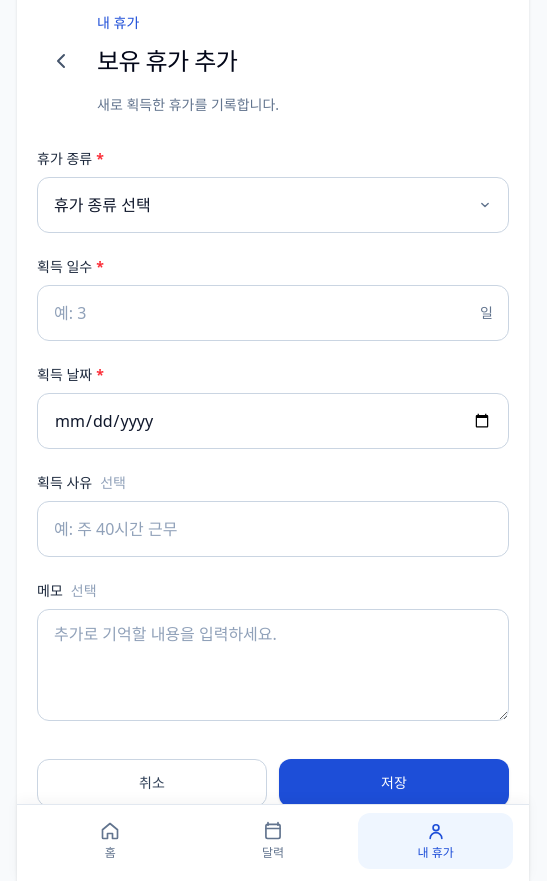
Test case: 보유 휴가 등록 흐름 › 공가를 보유 휴가로 등록하고 저장한다
Select "공가" in the dropdown labelled "휴가 종류 *" at {"x": 273, "y": 205}, box x1=37 y1=177 x2=509 y2=233
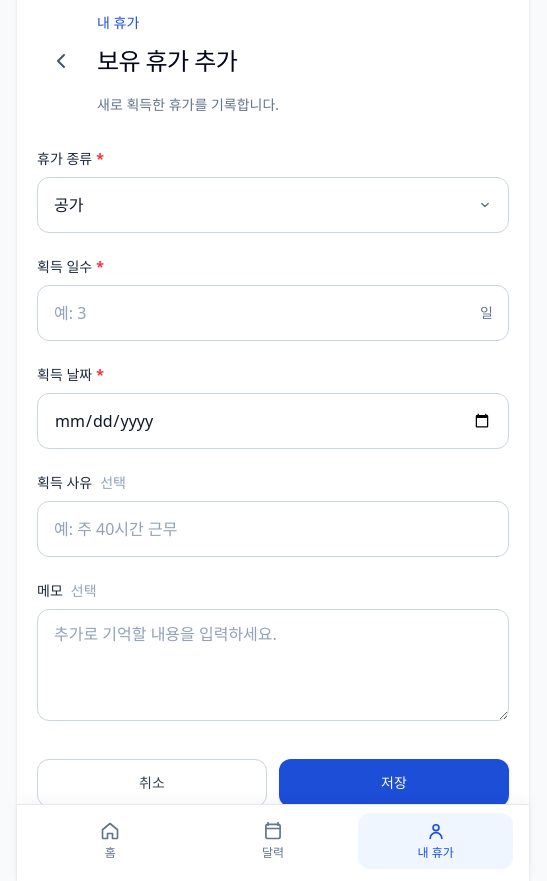
Type "1" into the number field labelled "획득 일수 * 일" at {"x": 273, "y": 313}, box x1=37 y1=285 x2=509 y2=341
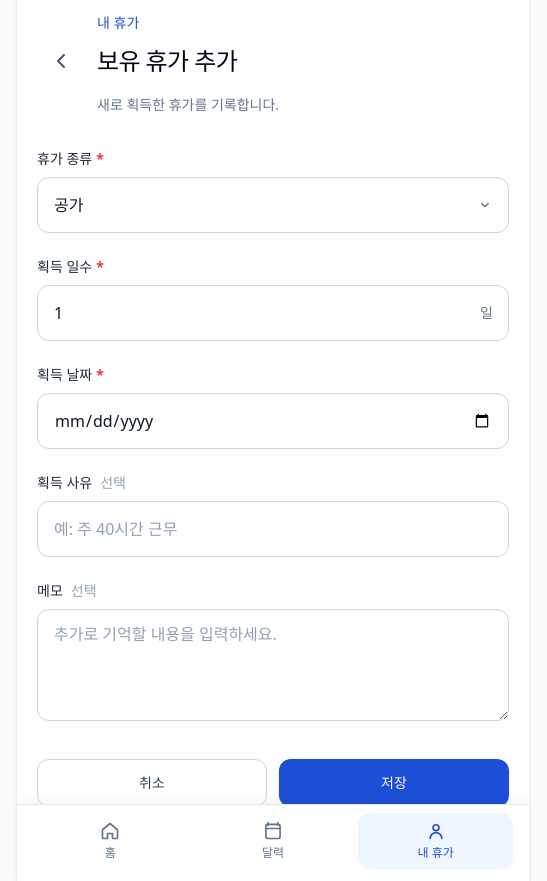
Type "2026-08-05" into the date field labelled "획득 날짜 *" at {"x": 273, "y": 421}, box x1=37 y1=393 x2=509 y2=449
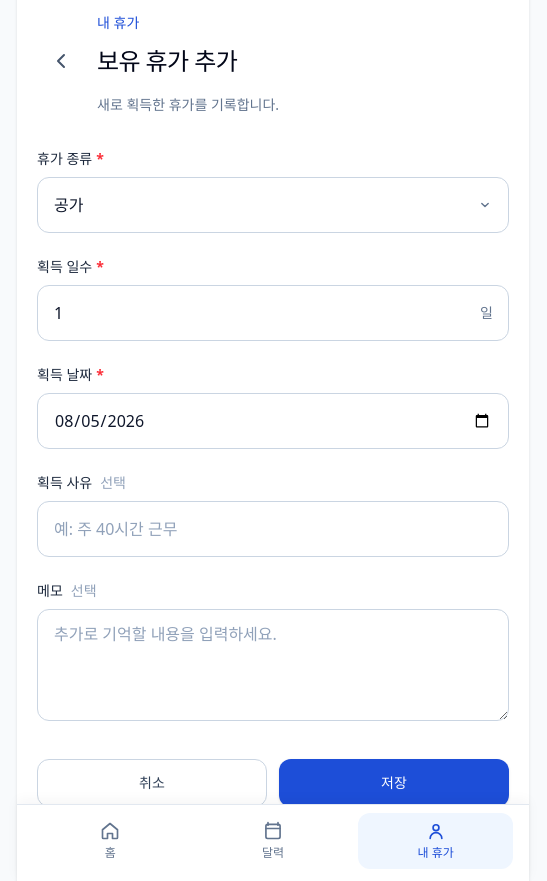
Click the button "저장" at {"x": 394, "y": 783}, box x1=279 y1=759 x2=509 y2=807
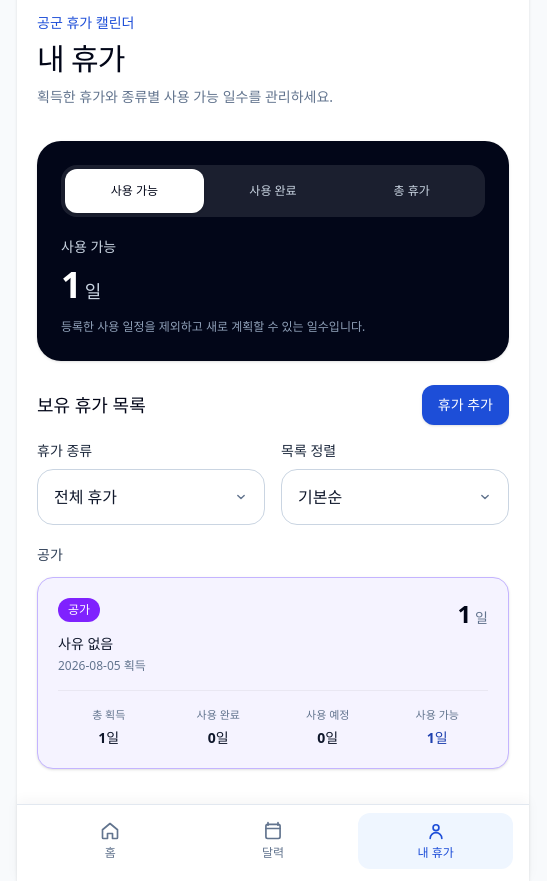
Expected: the link with aria-label "공가 1일 상세 보기" is shown, x1=37 y1=577 x2=509 y2=768
